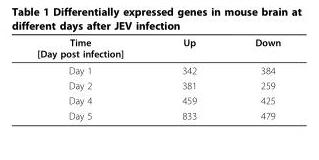table: (36, 36, 280, 120)
table column: (36, 36, 152, 120), (152, 36, 225, 120), (225, 36, 280, 120)
table column header: (36, 36, 280, 61)
table row: (36, 36, 280, 61), (36, 61, 280, 77), (36, 77, 280, 92), (36, 92, 280, 107), (36, 107, 280, 120)
